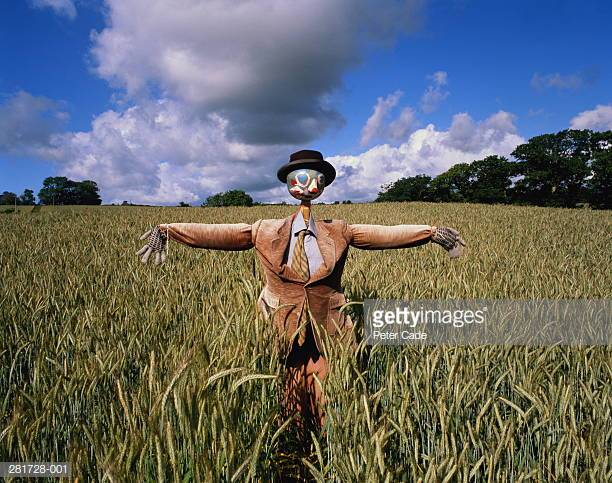person-like: (136, 142, 464, 380)
